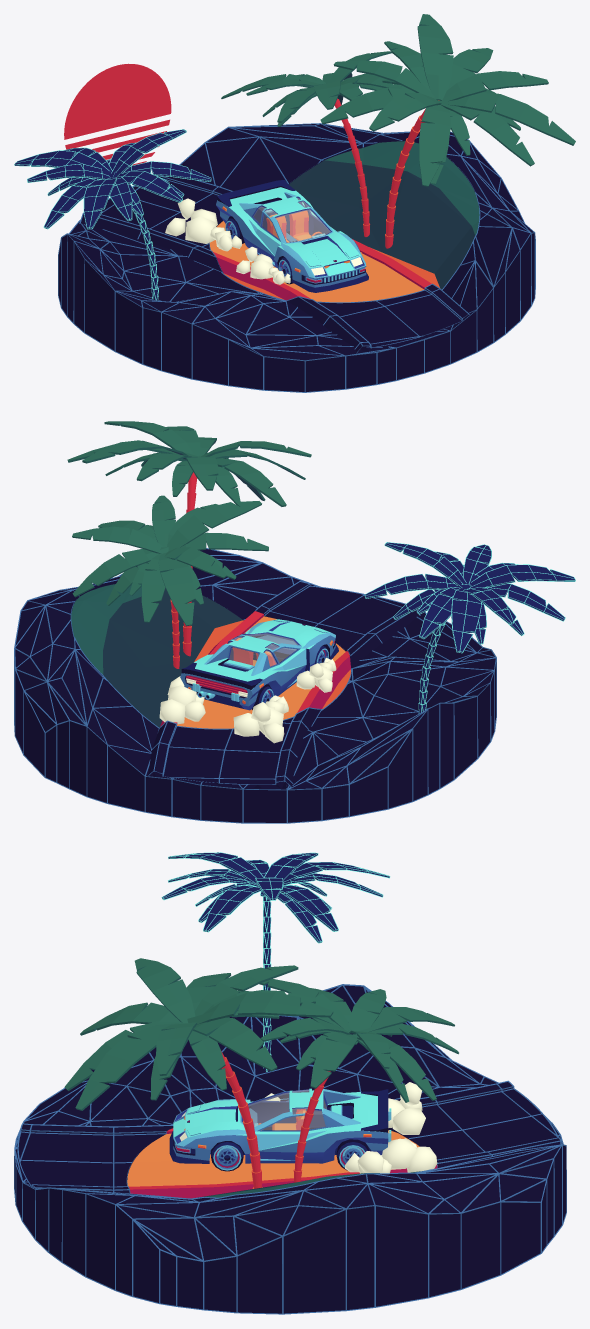
The model's file is retrowaveCarRemake-compressed.glb.
The picture shows the model from 3 angles, top to bottom: view 1: azimuth 30°, elevation 25°; view 2: azimuth 150°, elevation 25°; view 3: azimuth 270°, elevation 25°; orthographic projection. The views are drawn at different scales.
Visible parts, largest first — view 1: Island_8, CarBody_7, Icosphere_10, Doors_2, CarBumper_1; view 2: Island_8, CarBody_7, Icosphere_10, Doors_2; view 3: Island_8, CarBody_7, Icosphere_10, Doors_2, Wheel_FL_5, CarBumper_1.
Part boxes in pixels (bbox=[...]): Island_8: bbox=[14, 14, 575, 392]; CarBody_7: bbox=[216, 180, 366, 278]; Icosphere_10: bbox=[165, 198, 290, 284]; Doors_2: bbox=[251, 200, 336, 261]; CarBumper_1: bbox=[291, 266, 368, 292]; Island_8: bbox=[14, 421, 575, 823]; CarBody_7: bbox=[180, 619, 335, 710]; Icosphere_10: bbox=[159, 658, 336, 743]; Doors_2: bbox=[229, 635, 306, 687]; Island_8: bbox=[14, 852, 566, 1314]; CarBody_7: bbox=[173, 1088, 391, 1163]; Icosphere_10: bbox=[265, 1082, 437, 1173]; Doors_2: bbox=[251, 1088, 310, 1160]; Wheel_FL_5: bbox=[211, 1141, 243, 1171]; CarBumper_1: bbox=[169, 1131, 210, 1163].
Size of the model in its own units: 8.91 by 4.12 by 7.68.
Materials: 2 (2 with a texture image).
